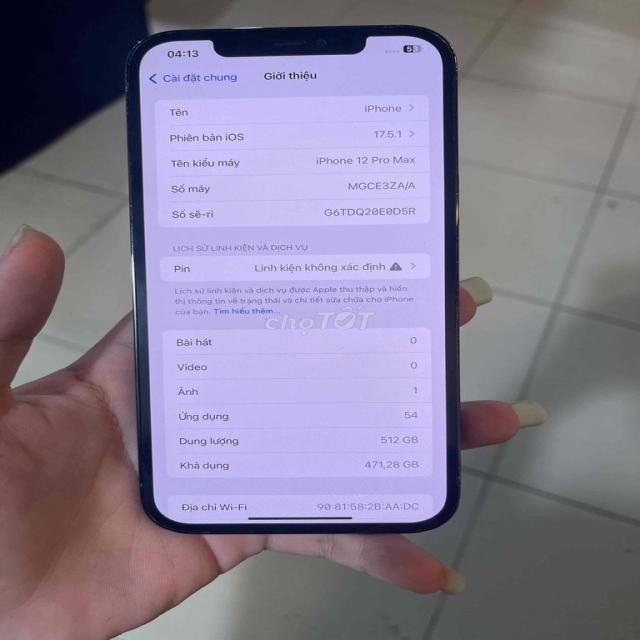gen_12_13: (118, 24, 468, 534)
